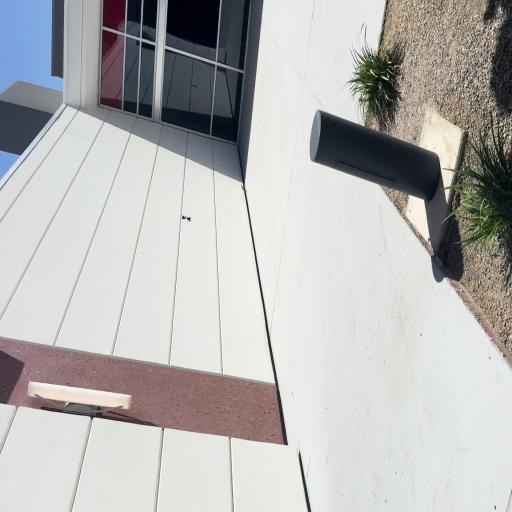target7: (182, 214, 192, 223)
